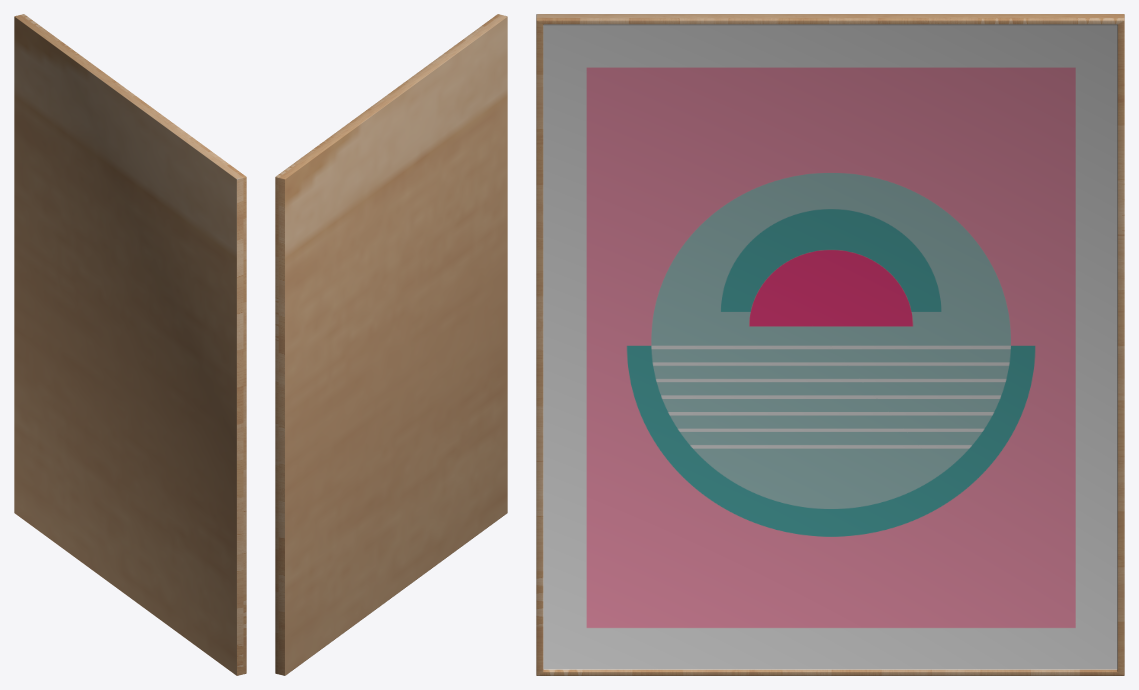
The model's file is wallpainting.glb.
3 renders of one model, left to right at view 1: azimuth 30°, elevation 25°; view 2: azimuth 150°, elevation 25°; view 3: azimuth 270°, elevation 25°, orthographic. The views are drawn at different scales.
Visible parts, largest first — view 1: Object_2; view 2: Object_2; view 3: Object_2.
Part boxes in pixels (<box>): Object_2: <box>14,14,246,675</box>; Object_2: <box>275,14,507,675</box>; Object_2: <box>536,14,1124,675</box>.
Size of the model in its own units: 0.65 by 31.18 by 25.34.
Materials: 1 (1 with a texture image).
